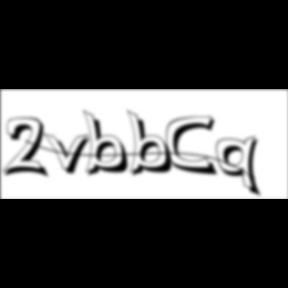2: (3, 117, 53, 181)
C: (166, 115, 222, 178)
b: (82, 109, 136, 179), (126, 109, 180, 179)
q: (216, 135, 266, 200)
v: (43, 131, 97, 177)
